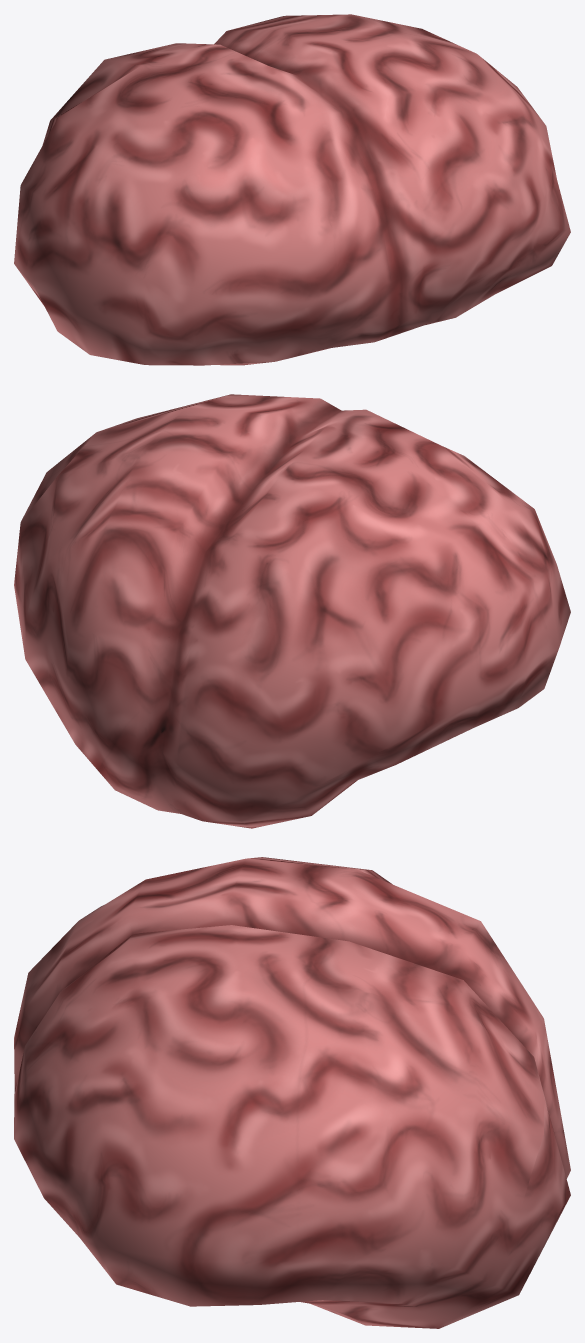
Rendered from Zombie_1_Brain.FBX.
3 renders of one model, top to bottom at view 1: azimuth 30°, elevation 25°; view 2: azimuth 150°, elevation 25°; view 3: azimuth 270°, elevation 25°, orthographic. The views are drawn at different scales.
Parts seen in each view (by area): view 1: brain; view 2: brain; view 3: brain.
Part boxes in pixels (box(x1,y1,x2,y2)): brain: box(14, 14, 570, 365); brain: box(14, 394, 570, 828); brain: box(14, 857, 570, 1328).
Size of the model in its own units: 38.72 by 24.88 by 32.03.
1 material, 1 textured.
